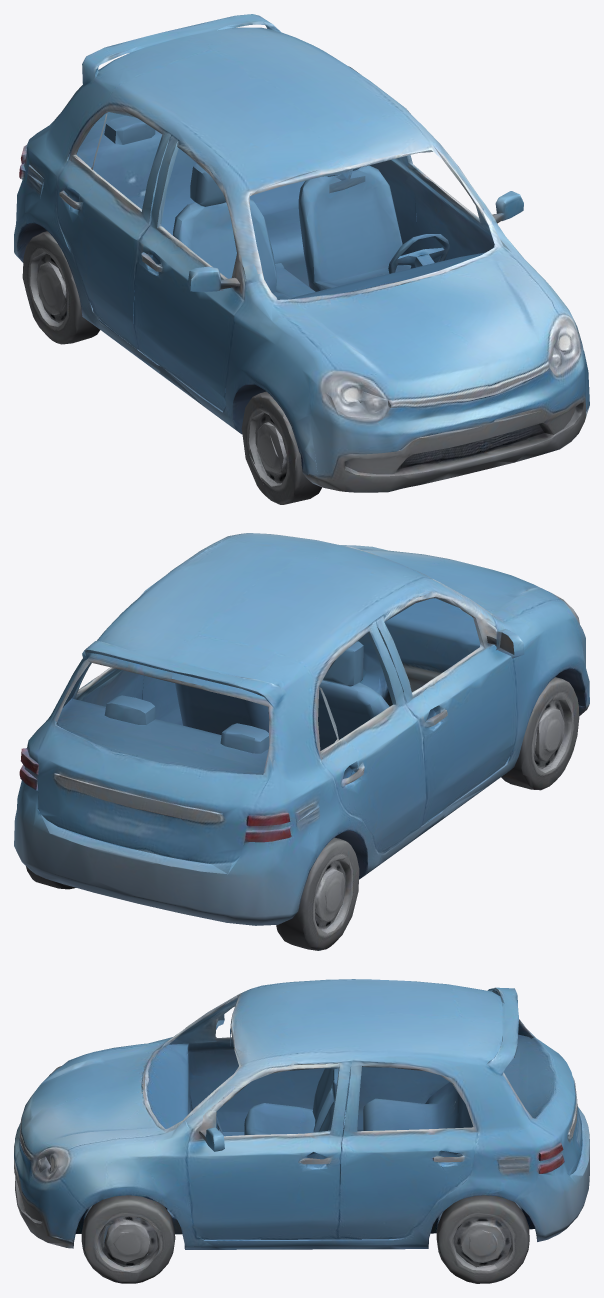
Rendered from carro_popular.glb.
3 renders of one model, top to bottom at view 1: azimuth 30°, elevation 25°; view 2: azimuth 150°, elevation 25°; view 3: azimuth 270°, elevation 25°, orthographic. The views are drawn at different scales.
Visible parts, largest first — view 1: tripo_node_9faf0119-3f45-42c4-8fbe-f8e03fa07ba1; view 2: tripo_node_9faf0119-3f45-42c4-8fbe-f8e03fa07ba1; view 3: tripo_node_9faf0119-3f45-42c4-8fbe-f8e03fa07ba1.
Boxes of the visible parts, <box> form: tripo_node_9faf0119-3f45-42c4-8fbe-f8e03fa07ba1: <box>14,14,589,504</box>; tripo_node_9faf0119-3f45-42c4-8fbe-f8e03fa07ba1: <box>14,533,589,950</box>; tripo_node_9faf0119-3f45-42c4-8fbe-f8e03fa07ba1: <box>14,979,589,1283</box>.
Bounding box in the file's own units: 2.11 × 1.64 × 3.9.
Materials: 1 (1 with a texture image).
